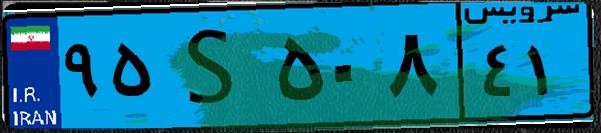0: (330, 28, 385, 110)
1: (525, 38, 570, 115)
4: (475, 38, 525, 113)
5: (270, 28, 330, 110), (110, 28, 158, 98)
8: (385, 28, 445, 110)
9: (57, 26, 110, 100)
S: (158, 12, 270, 120)
